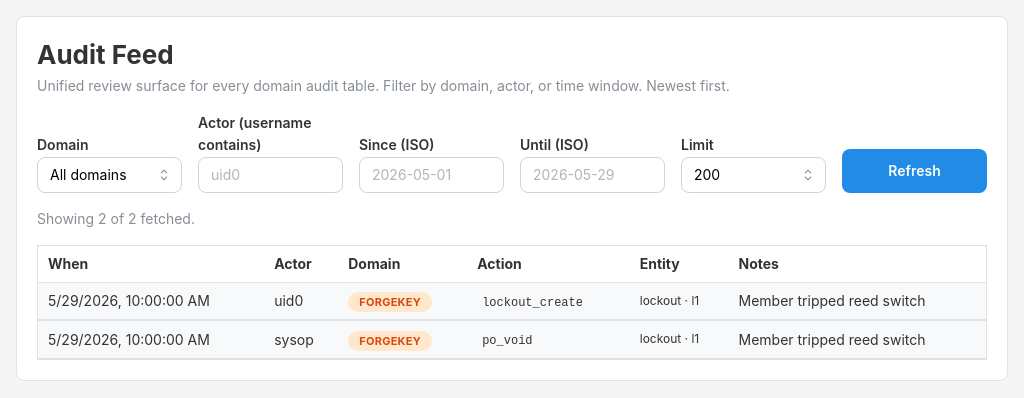
AuditFeedPage › client-side filters by actor without re-fetching
Expected: the text "lockout_create" is shown, [477, 294, 588, 312]
Expected: the text "po_void" is shown, [477, 332, 538, 350]
Type "sysop" into the field labelled "Actor (username contains)" at (270, 175), box [198, 157, 343, 193]
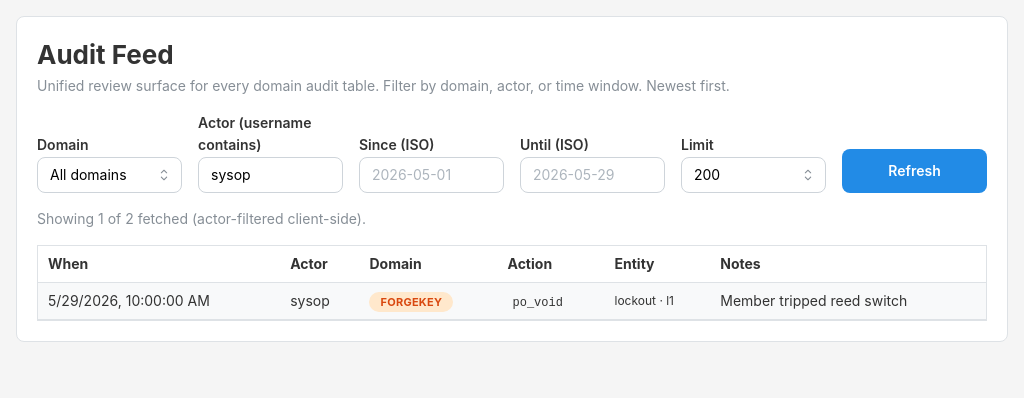
Expected: the text "po_void" is shown, [508, 294, 568, 312]
Expected: the text "lockout_create" is gone
